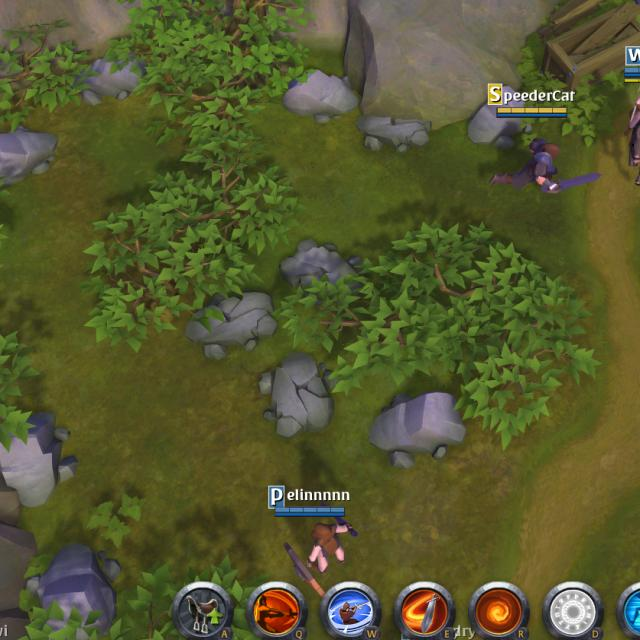broken stone: (258, 348, 339, 441), (183, 286, 282, 360), (276, 232, 366, 304), (353, 104, 437, 153)
stone: (24, 533, 119, 640), (0, 402, 79, 513), (370, 384, 469, 469), (280, 60, 362, 126), (69, 50, 149, 104), (0, 118, 58, 185)
